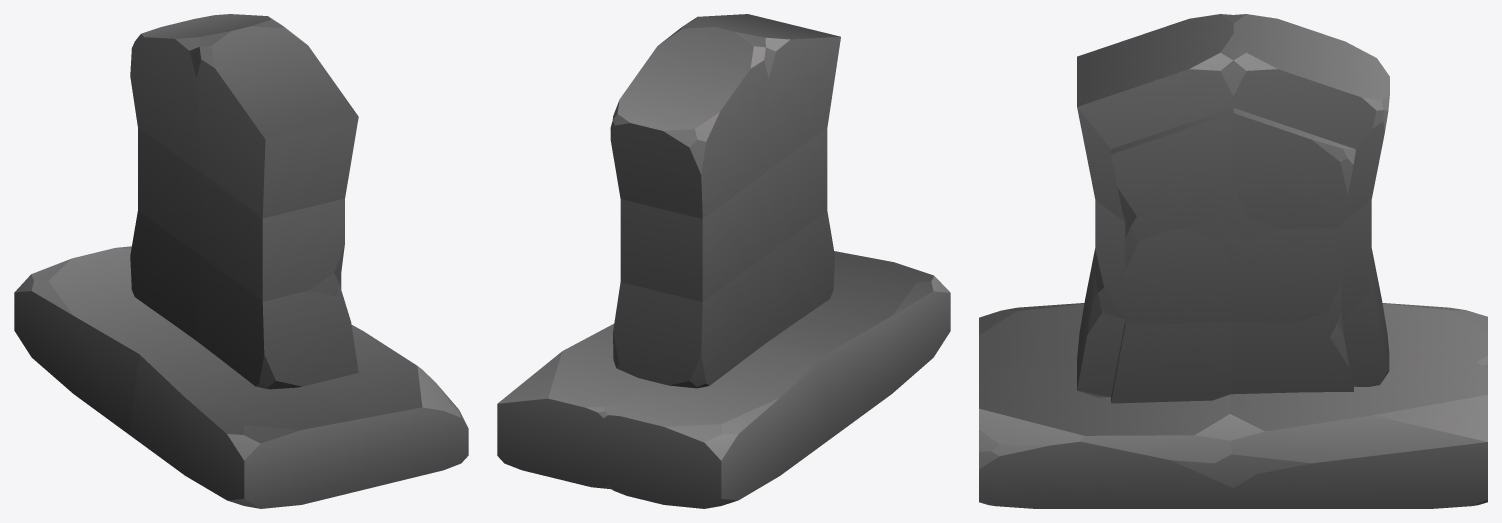
File: Grave_1.fbx
3 renders of one model, left to right at view 1: azimuth 30°, elevation 25°; view 2: azimuth 150°, elevation 25°; view 3: azimuth 270°, elevation 25°, orthographic. The views are drawn at different scales.
Parts seen in each view (by area): view 1: Cube.010, Cube.009; view 2: Cube.010, Cube.009; view 3: Cube.010, Cube.009.
Part boxes in pixels (x1=…): Cube.010: x1=130, y1=14, x2=358, y2=389; Cube.009: x1=14, y1=246, x2=468, y2=508; Cube.010: x1=610, y1=14, x2=840, y2=388; Cube.009: x1=497, y1=251, x2=950, y2=508; Cube.010: x1=1077, y1=14, x2=1389, y2=403; Cube.009: x1=979, y1=303, x2=1487, y2=508.
Bounding box in the file's own units: 114 × 182 × 200.
Materials: 1 (1 with a texture image).
